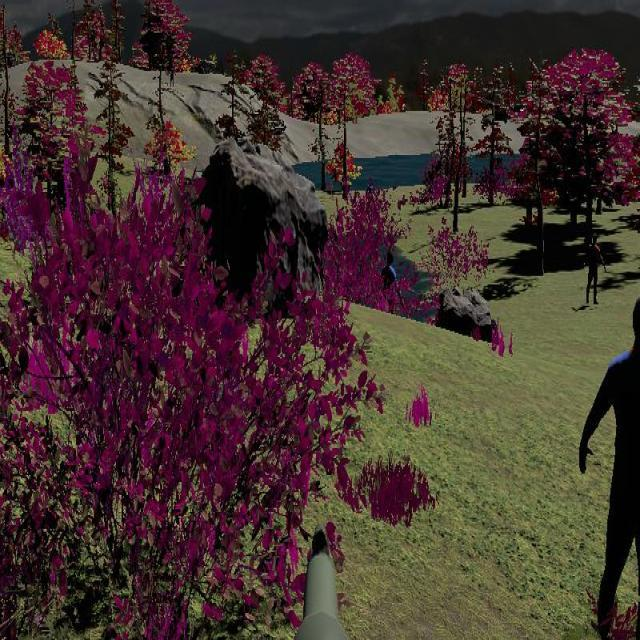Human: (577, 278, 640, 639), (577, 285, 640, 639)
